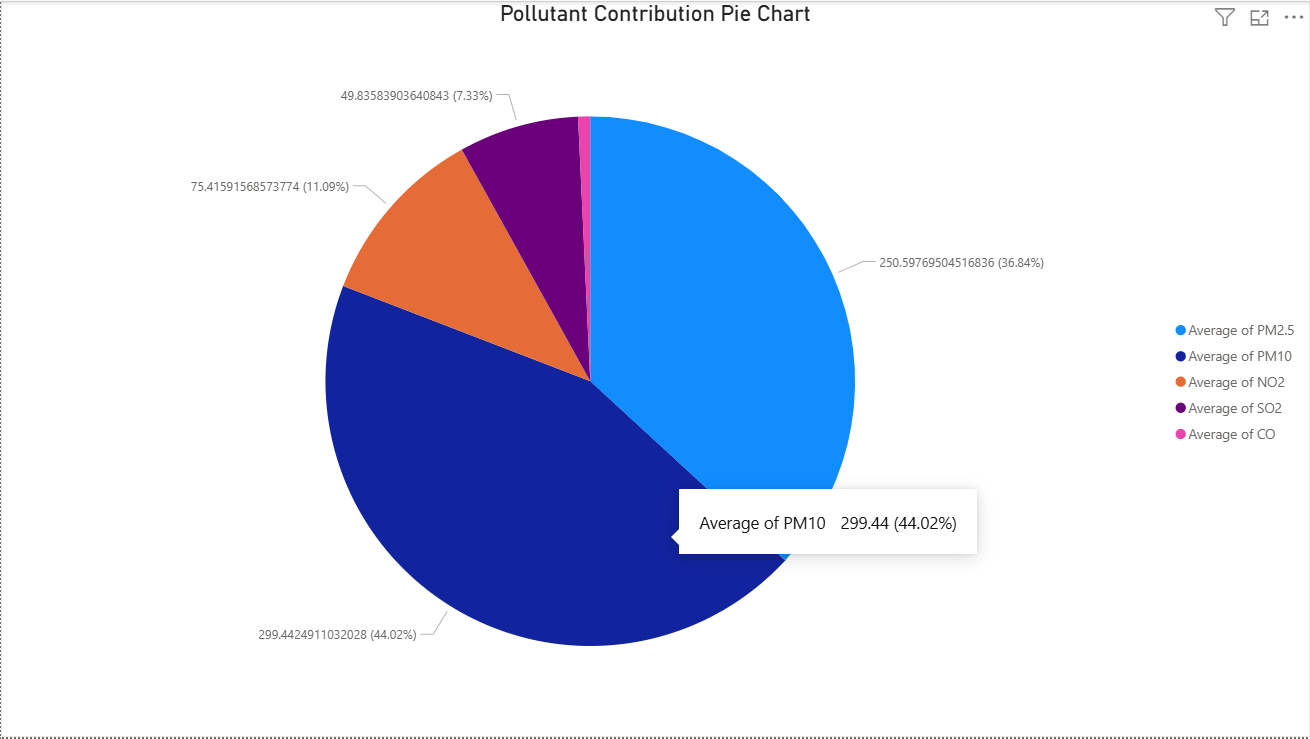

What the dashboard file says about the page in this screenshot:
{"tool":"powerbi","page":{"name":"Pollutant Contribution Pie Chart","canvas":[1280,720],"ordinal":20},"visuals":[{"type":"pieChart","title":"Pollutant Contribution Pie Chart","fields":{"Y":["Avg(city_day.PM2.5)","Avg(city_day.PM10)","Avg(city_day.NO2)","Avg(city_day.SO2)","Avg(city_day.CO)"]},"box":[0,0,1280.3,720.2],"z":0}]}

Visuals, with their boxes on the page's 1280x720 design canvas (x1, y1, x2, y2). These are canvas units, not pixel positions in the 1310x739 screenshot, which may show the page scaled, cropped or inside an application window:
"Pollutant Contribution Pie Chart" pieChart: <box>0,0,1280,720</box>
